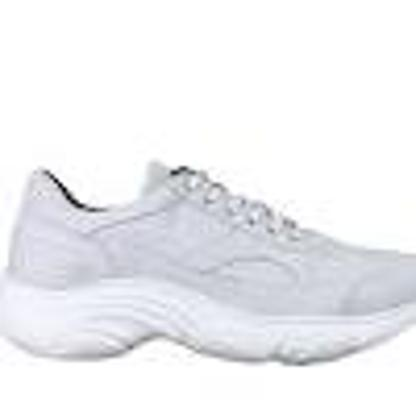not trash: (1, 155, 416, 368)
